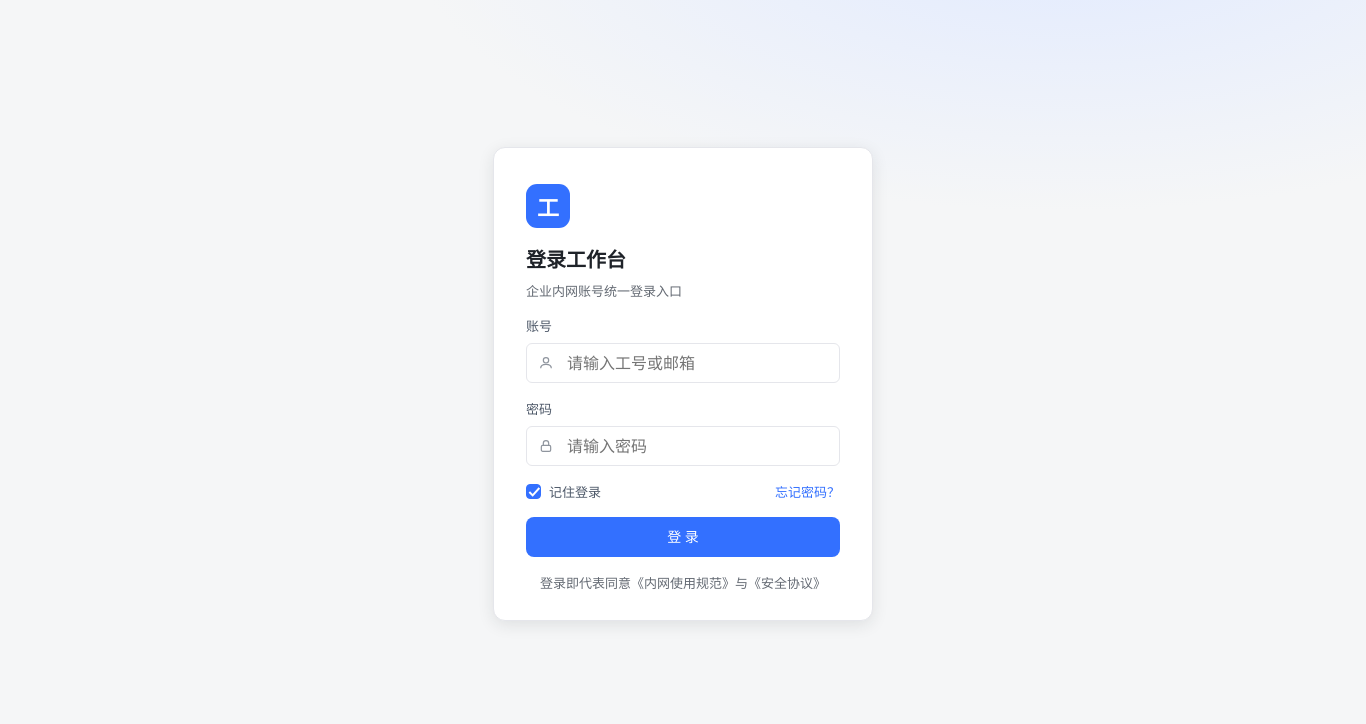
Scenario: workbench shell frontend foundation › rebootstraps after first-login completion and enters the shell
Type "admin" into the field labelled "账号" at [683, 363], box [526,343,840,383]
Type "secret" into the password field labelled "密码" at [683, 446], box [526,426,840,466]
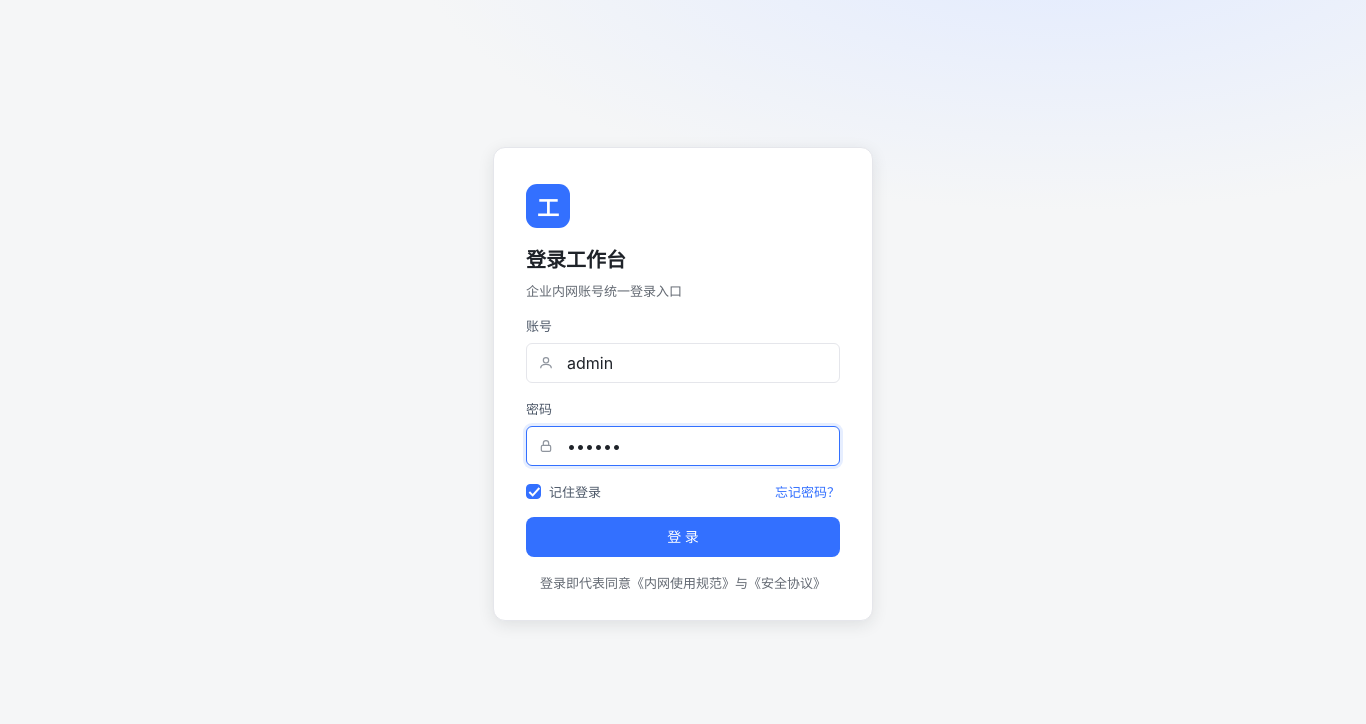
Click the button "登 录" at [683, 537], box [526,517,840,557]
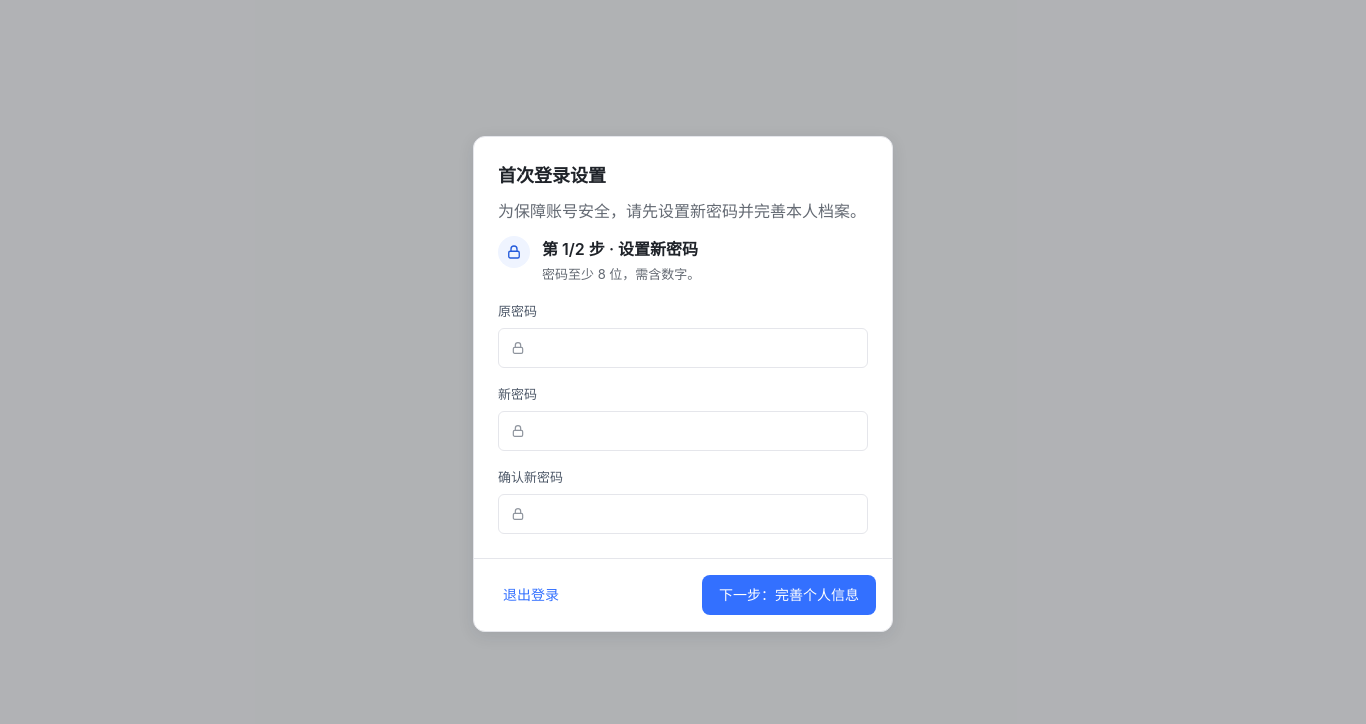
Check: the password field labelled "原密码" is shown
Type "old-password1" into the password field labelled "原密码" at [683, 348], box [498,328,868,368]
Type "new-password1" into the password field labelled "新密码" at [683, 431], box [498,411,868,451]
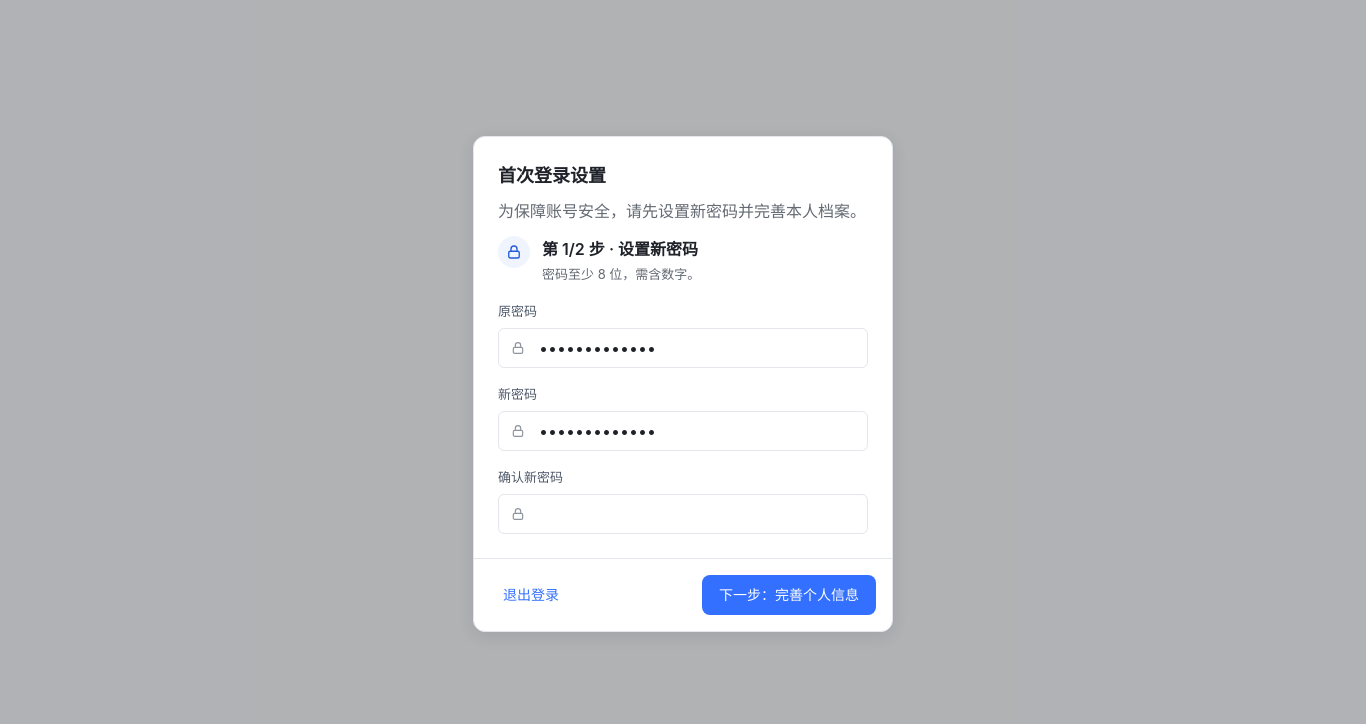
Type "new-password1" into the password field labelled "确认新密码" at [683, 514], box [498,494,868,534]
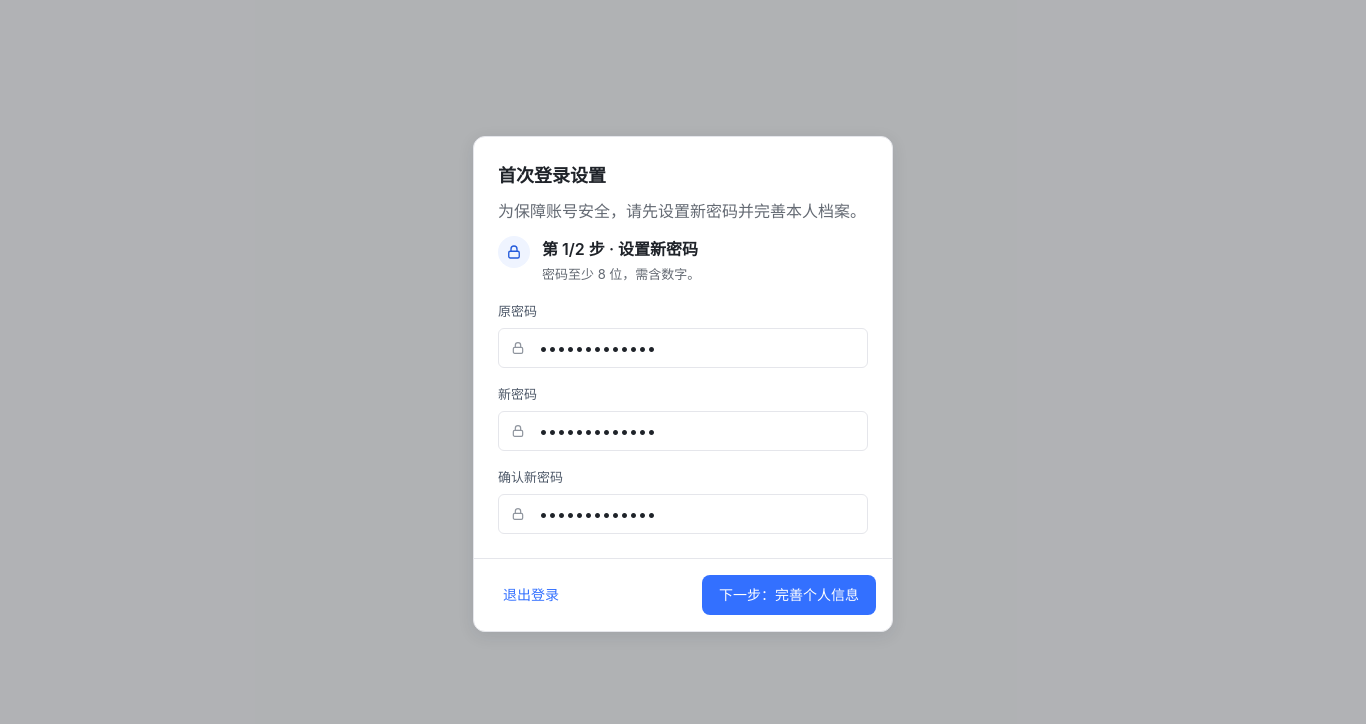
Click the button "下一步：完善个人信息" at [789, 595], box [702,575,876,615]
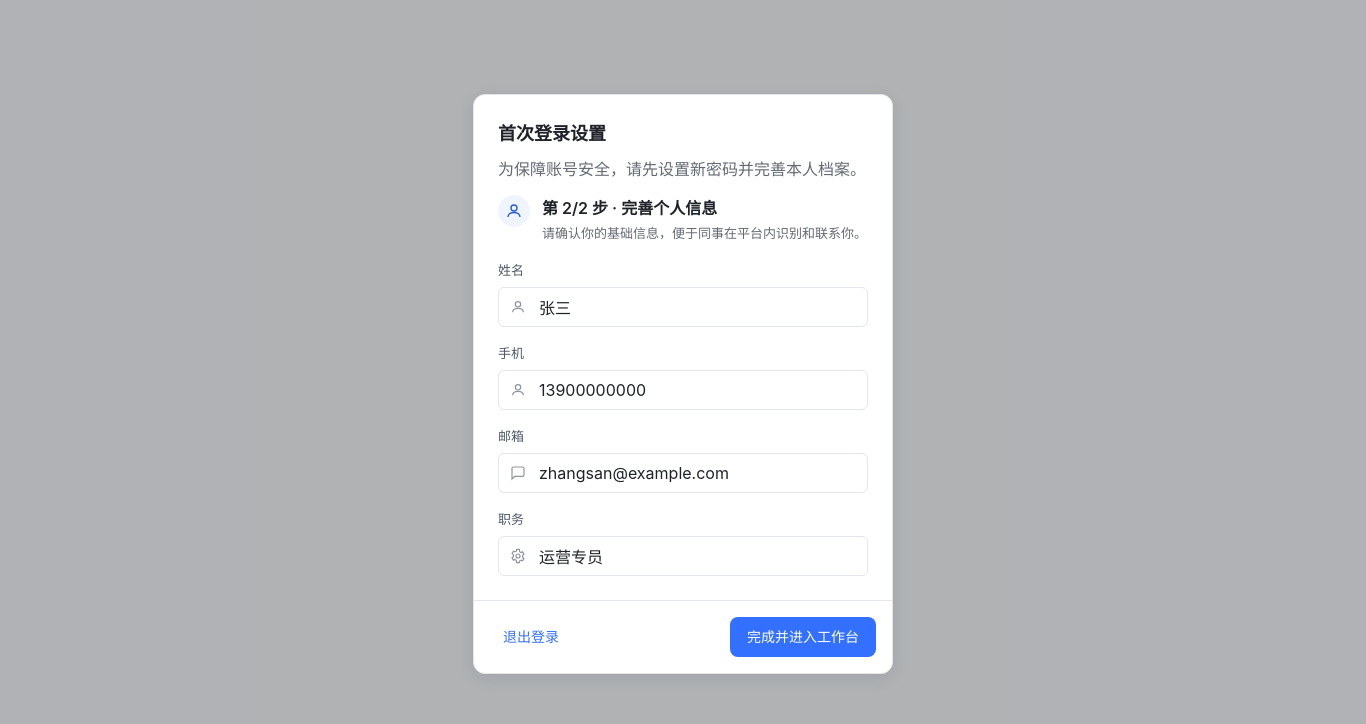
Check: the heading "第 2/2 步 · 完善个人信息" is shown, box [542,198,717,218]
Click the button "完成并进入工作台" at [803, 637], box [730,617,876,657]
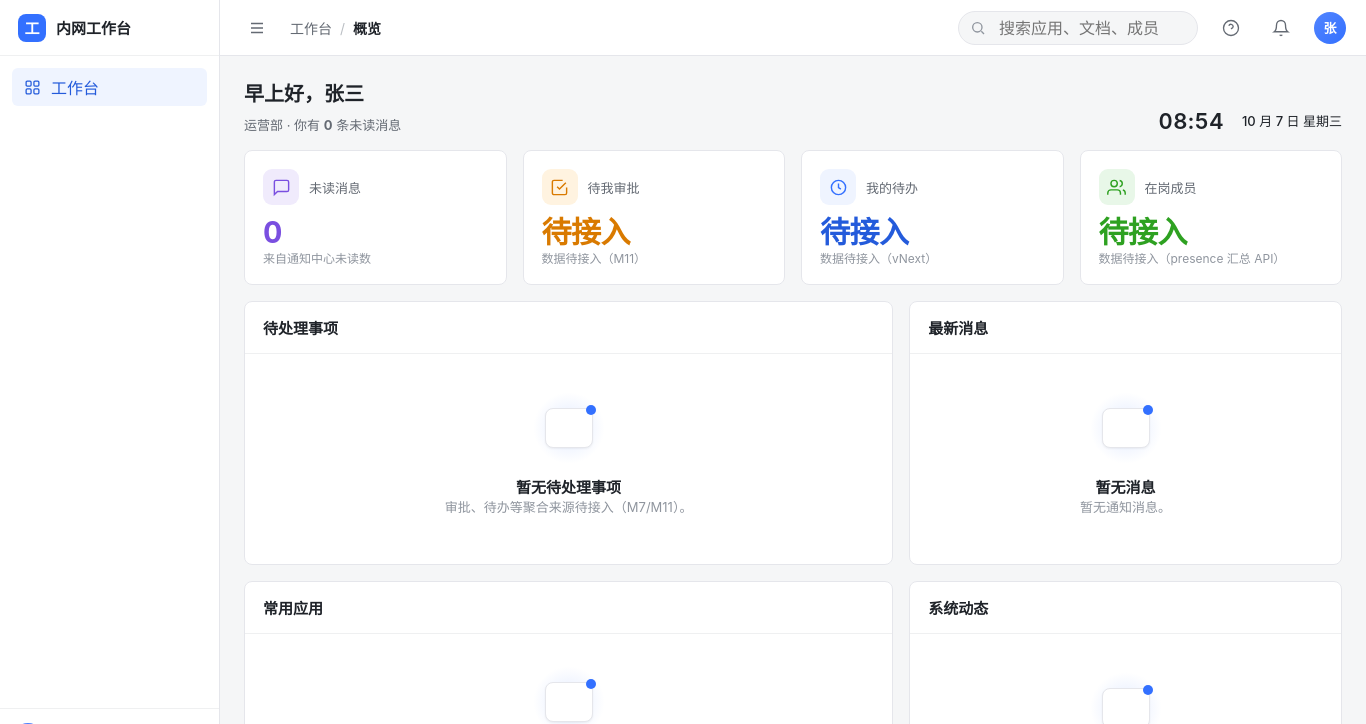
Check: the heading "早上好，张三" is shown, box [244,82,364,106]
